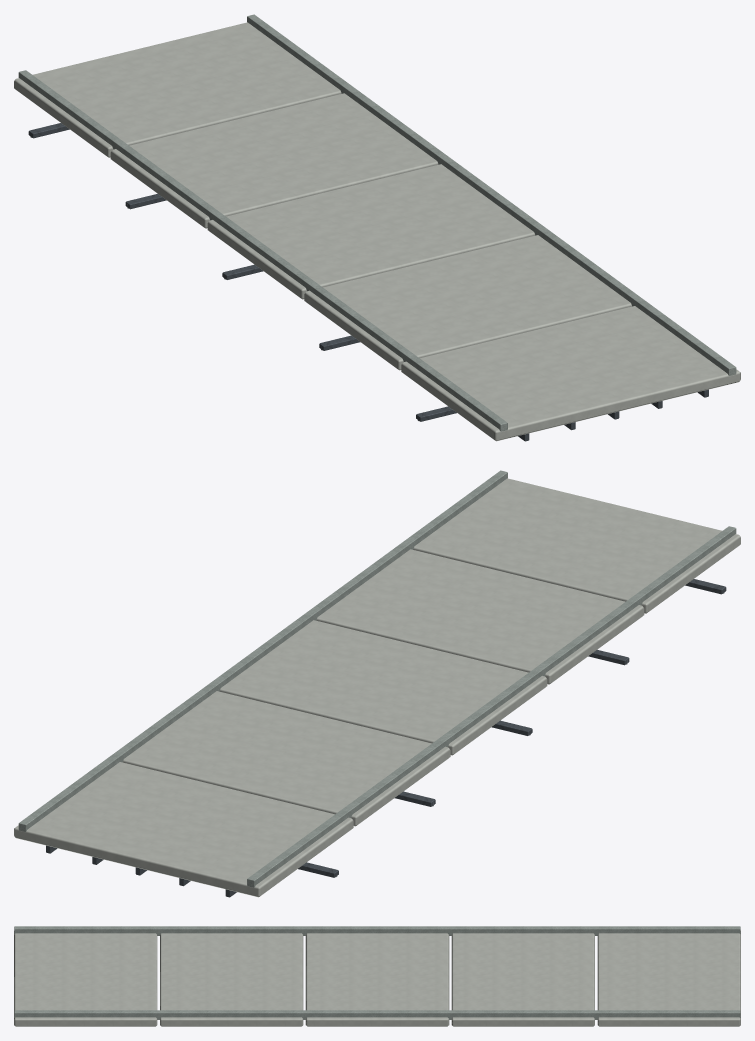
The model's file is shutter_port.fbx.
The picture shows the model from 3 angles, top to bottom: view 1: azimuth 30°, elevation 25°; view 2: azimuth 150°, elevation 25°; view 3: azimuth 270°, elevation 25°; orthographic projection. The views are drawn at different scales.
Visible parts, largest first — view 1: SM_aster_shutter_port; view 2: SM_aster_shutter_port; view 3: SM_aster_shutter_port.
Boxes of the visible parts, <box> form: SM_aster_shutter_port: <box>14,14,740,441</box>; SM_aster_shutter_port: <box>14,470,740,897</box>; SM_aster_shutter_port: <box>14,926,740,1026</box>.
Size of the model in its own units: 4.19 by 0.359 by 12.66.
5 materials, 4 textured.
